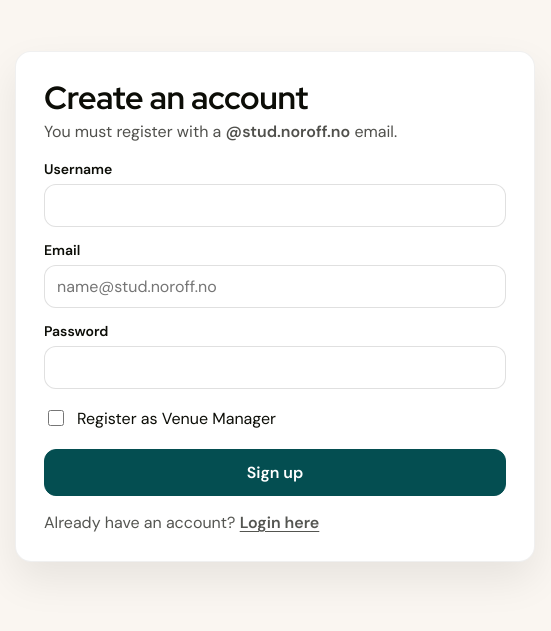
Scenario: Register page › shows validation errors when submitting empty form
The image size is (551, 631).
Click the button "Sign up" at (275, 473), box [44,449,506,496]
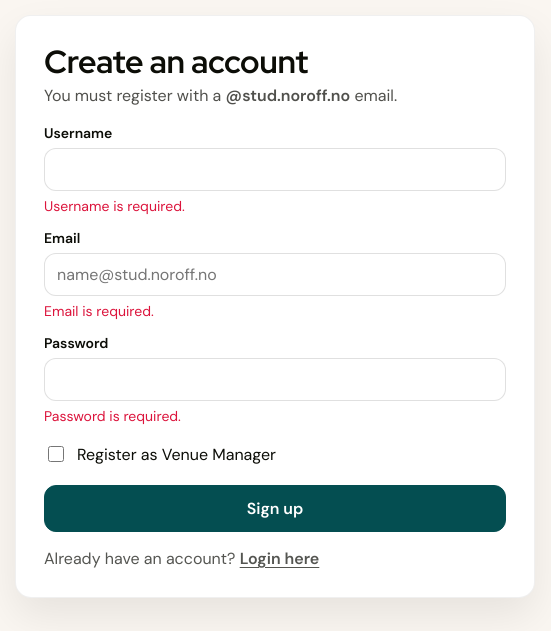
Result: the text "Username is required." is shown at [44,197,185,215]
Result: the text "Email is required." is shown at [44,302,154,320]
Result: the text "Password is required." is shown at [44,407,181,425]
